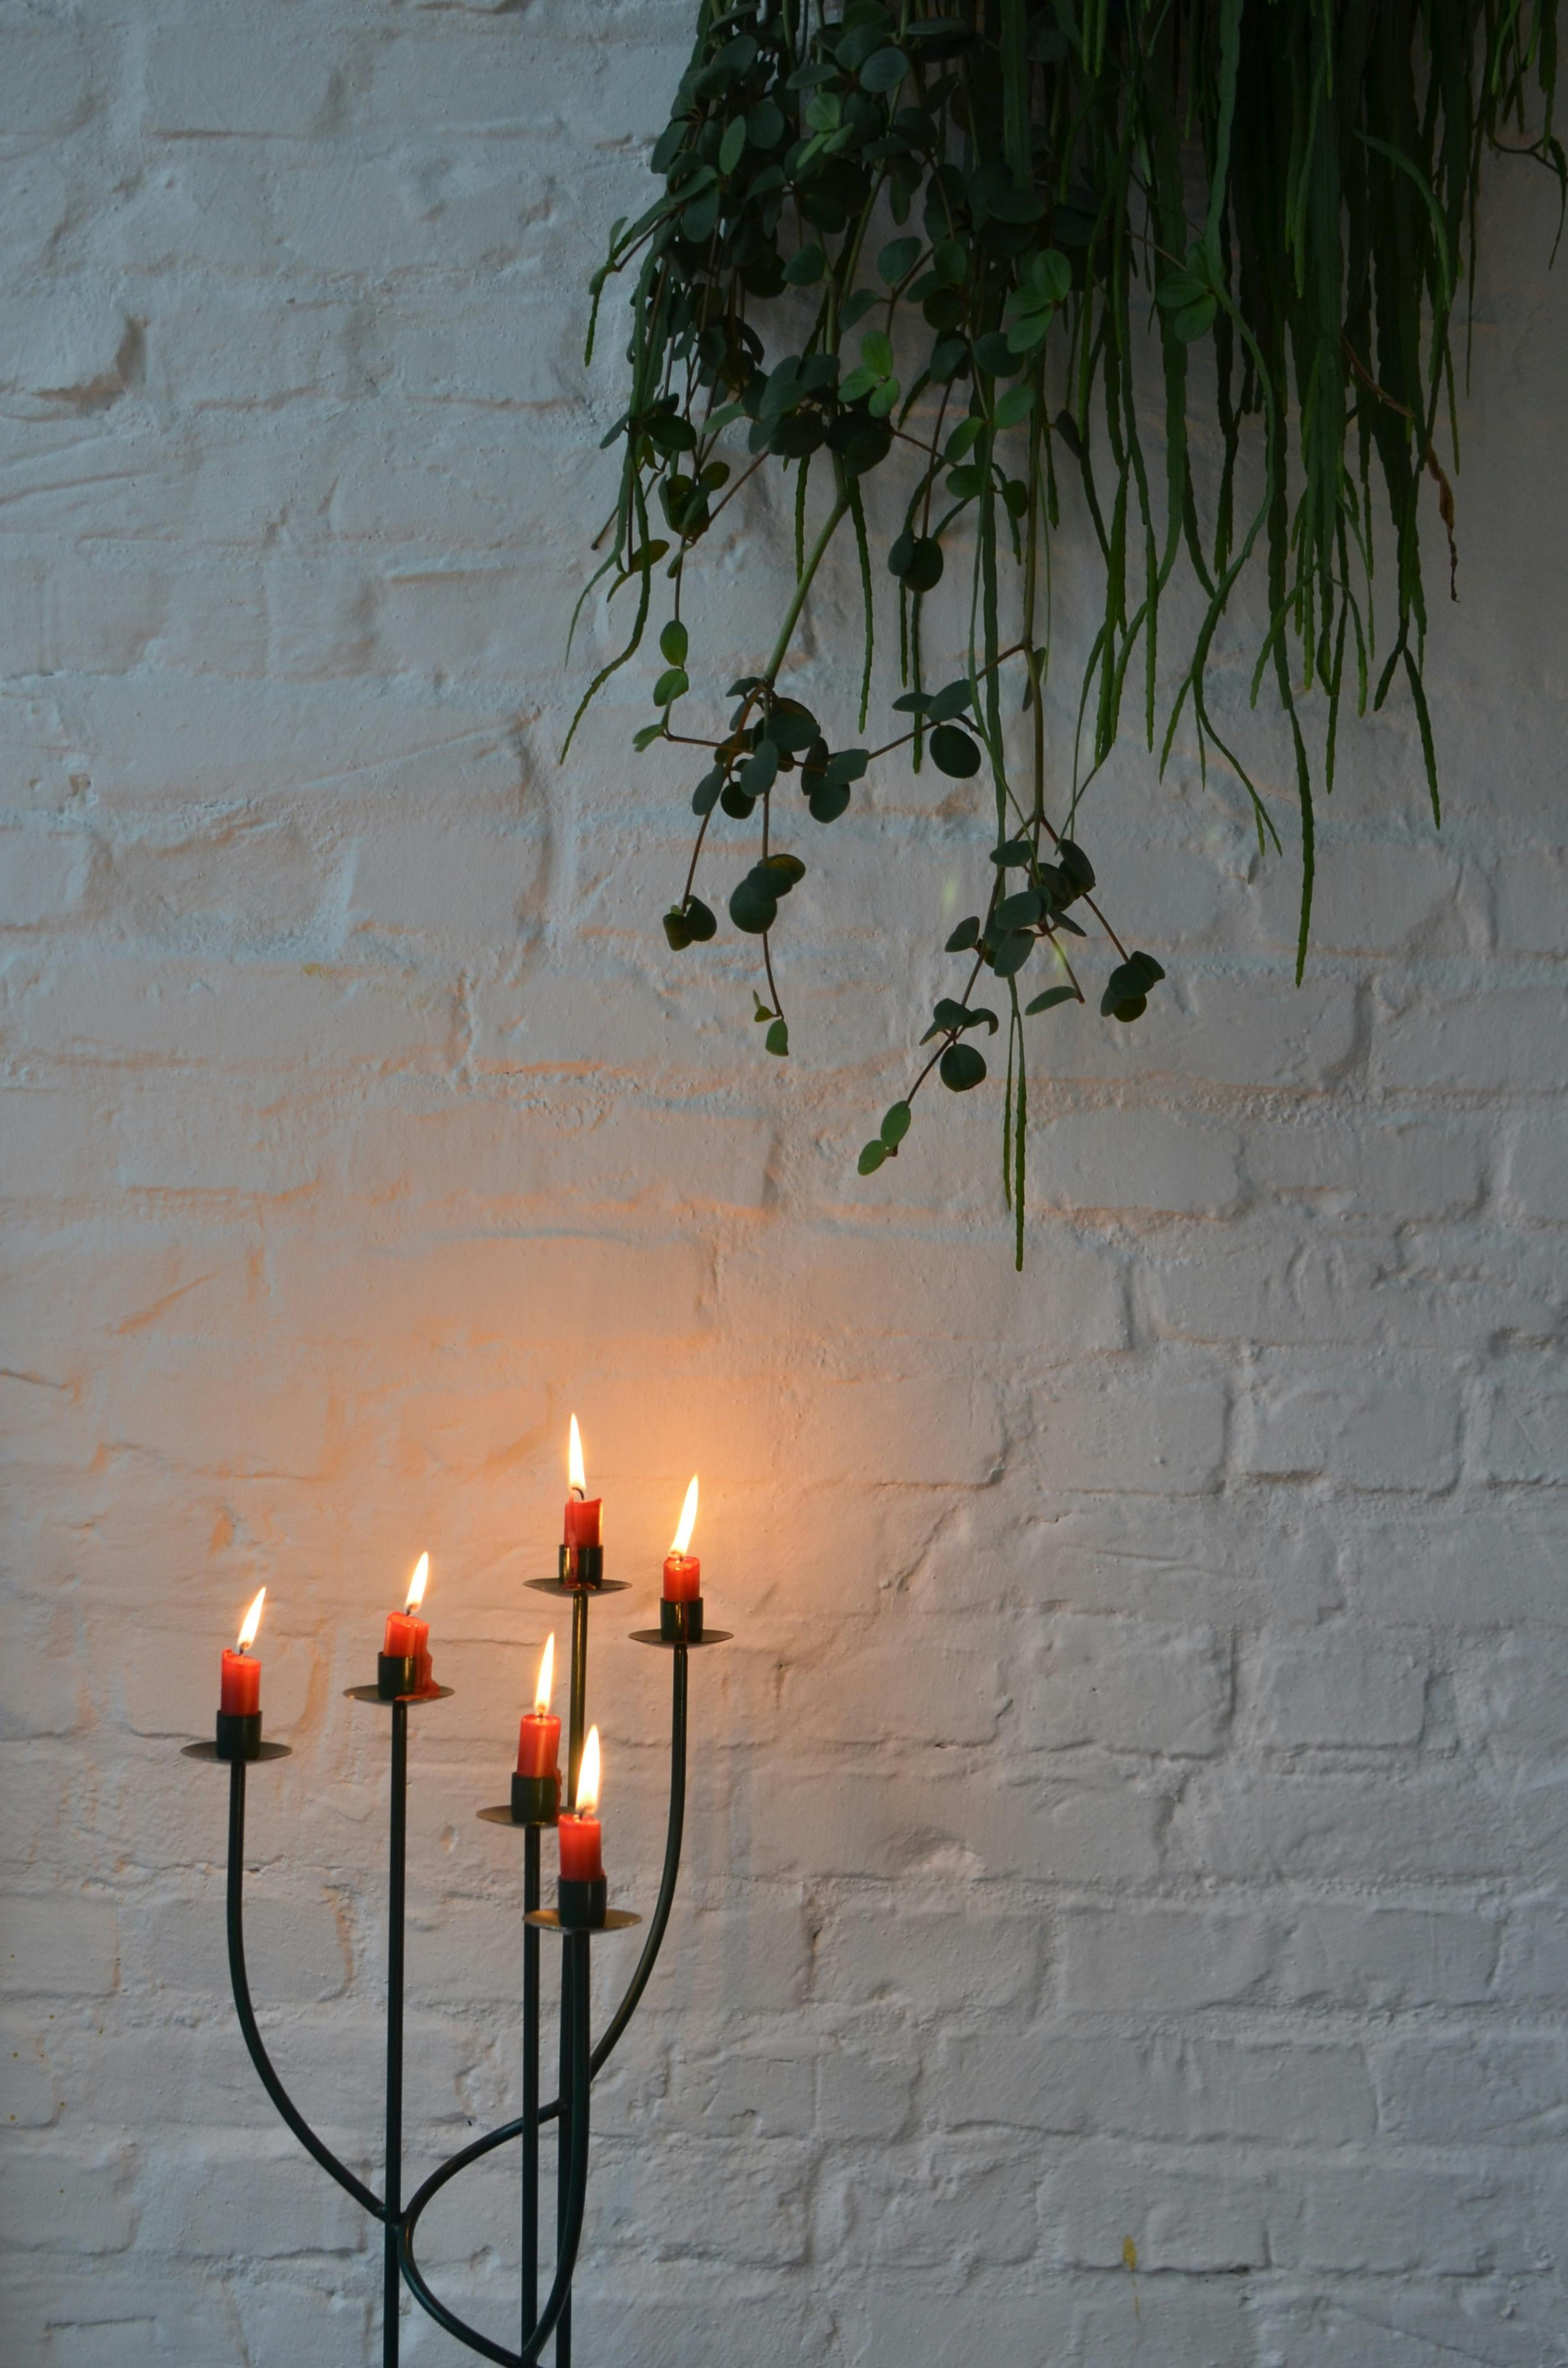Fire: (520, 1635, 642, 1853), (175, 1572, 299, 1670), (380, 1526, 464, 1643), (527, 1384, 602, 1510), (647, 1468, 740, 1556)
